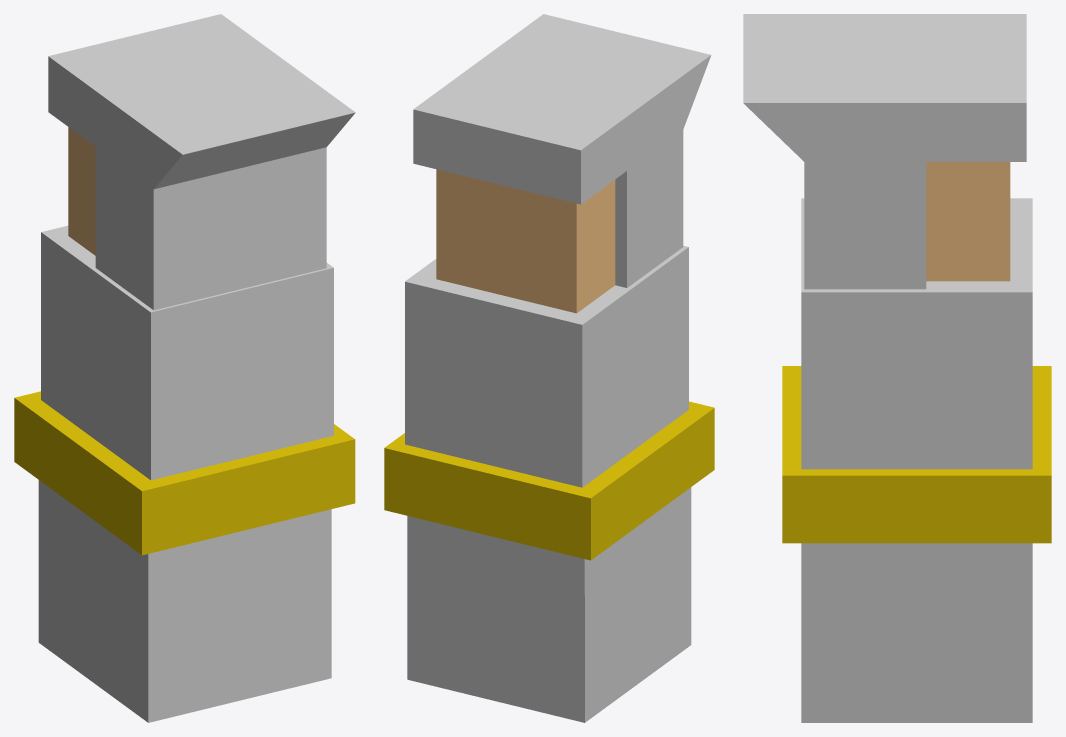
File: Charger.fbx
The picture shows the model from 3 angles, left to right: view 1: azimuth 30°, elevation 25°; view 2: azimuth 150°, elevation 25°; view 3: azimuth 270°, elevation 25°; orthographic projection. The views are drawn at different scales.
Parts seen in each view (by area): view 1: Cube, Lawas ug Dugo, Tiil, Bakus, Ulo; view 2: Lawas ug Dugo, Tiil, Cube, Bakus, Ulo; view 3: Cube, Lawas ug Dugo, Tiil, Bakus, Ulo.
Boxes of the visible parts, <box> form: Cube: <box>48,14,355,310</box>; Lawas ug Dugo: <box>41,225,333,480</box>; Tiil: <box>38,480,331,722</box>; Bakus: <box>14,391,355,555</box>; Ulo: <box>68,127,95,255</box>; Lawas ug Dugo: <box>405,245,688,487</box>; Tiil: <box>407,487,691,722</box>; Cube: <box>413,14,711,287</box>; Bakus: <box>384,401,714,560</box>; Ulo: <box>436,169,615,313</box>; Cube: <box>743,14,1026,289</box>; Lawas ug Dugo: <box>801,198,1032,469</box>; Tiil: <box>801,543,1032,722</box>; Bakus: <box>782,366,1051,543</box>; Ulo: <box>926,162,1010,281</box>.
Size of the model in its own units: 16.68 by 43.89 by 19.83.
